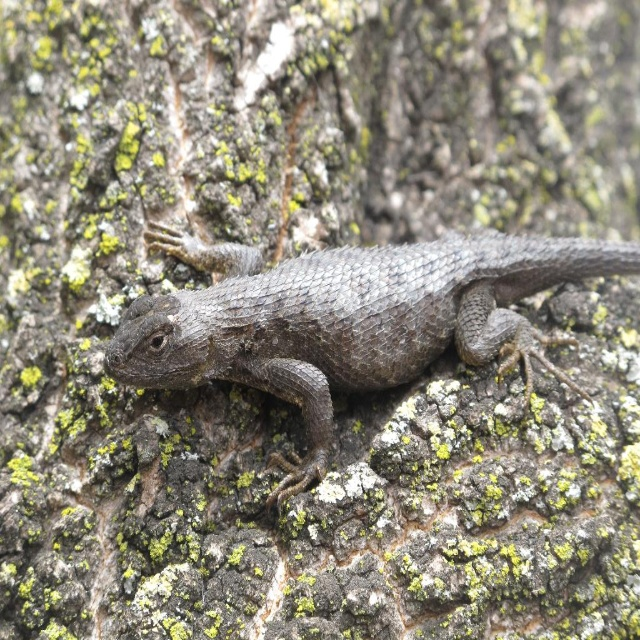Lizard: (103, 208, 640, 518)
